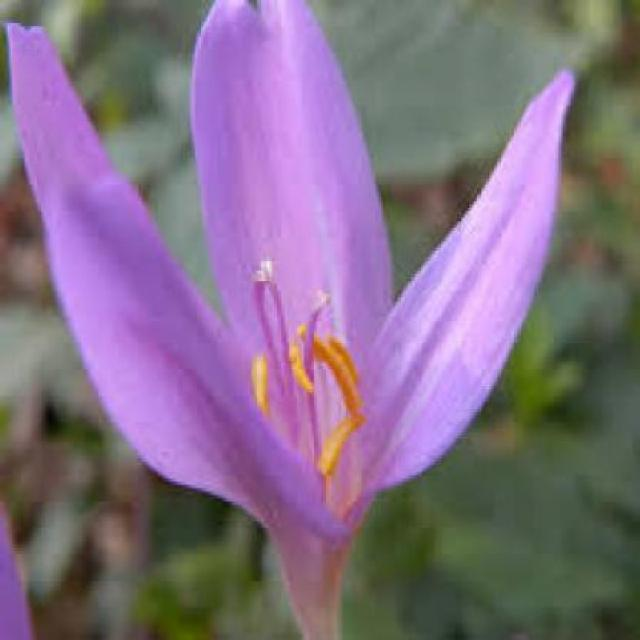saffron open: (31, 0, 571, 639)
